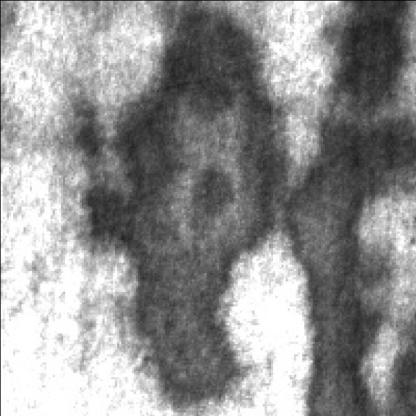patches: (77, 4, 281, 402), (283, 96, 412, 412), (320, 0, 409, 114)
